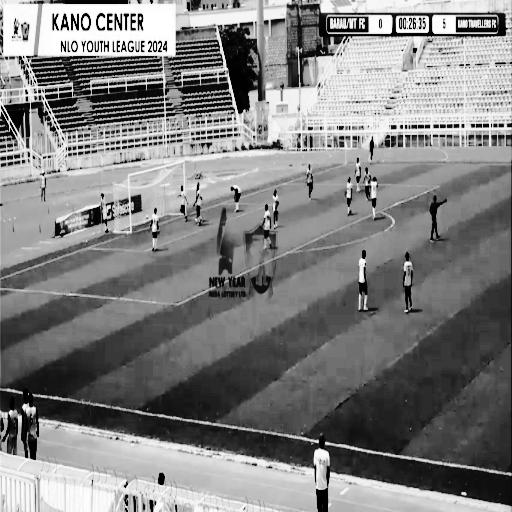ball: (145, 209, 149, 223)
referee: (430, 191, 451, 241)
team1: (354, 248, 376, 318), (258, 202, 276, 253), (226, 176, 246, 219), (148, 206, 164, 254), (193, 183, 204, 228), (344, 175, 354, 222), (368, 175, 378, 221), (355, 155, 361, 195)
team2: (398, 250, 417, 319), (174, 180, 192, 223), (269, 186, 282, 236), (303, 162, 316, 210), (364, 162, 372, 200)
